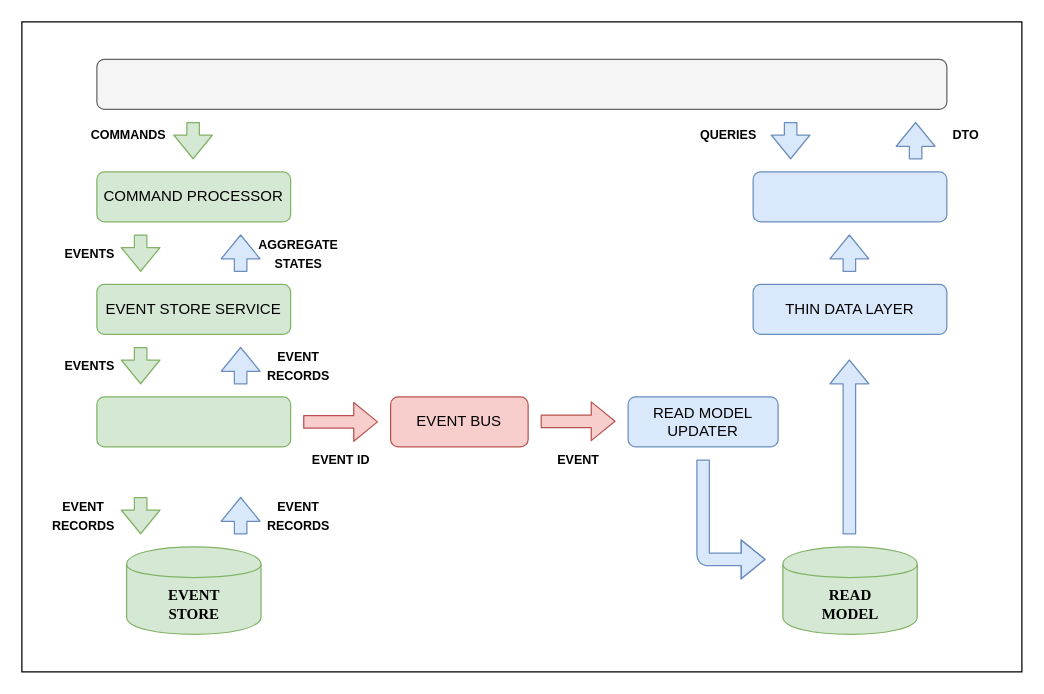
Image size: 1044x694. Some labels were removed from this diagram. The shapes that lost their labels are listed below. From the top down, each one's centre as x and y in pixels, then its label:
the point at 521,83: REST API
the point at 849,196: QUERY PROCESSOR
the point at 193,421: EVENT STORE REPOSITORY
